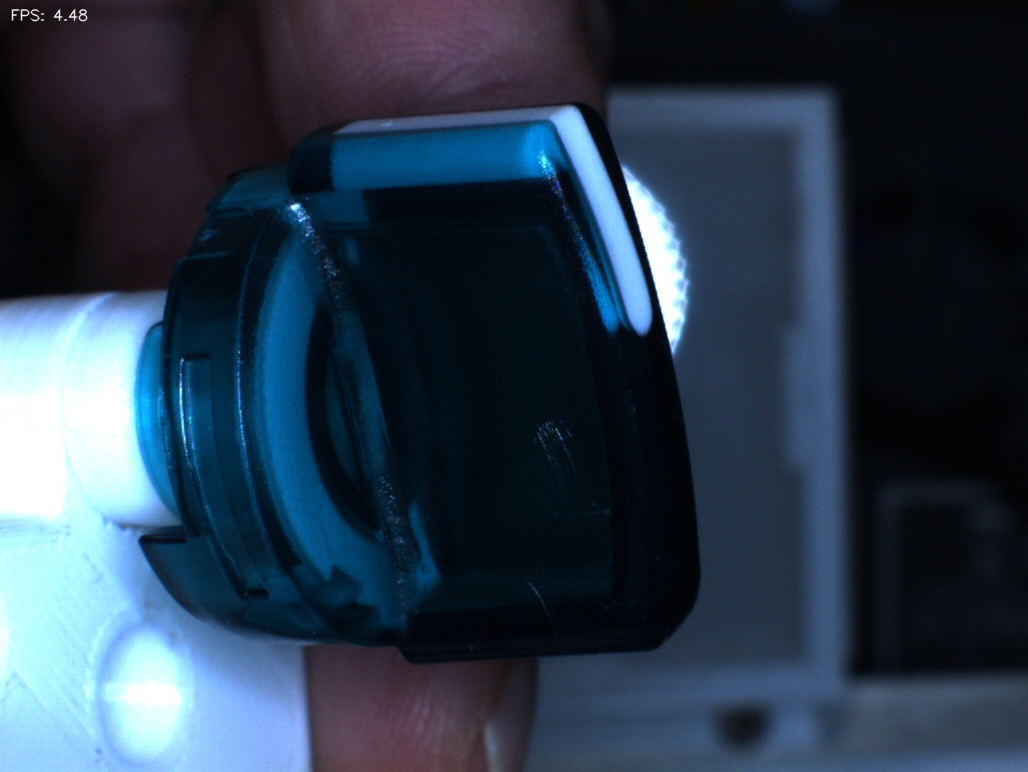Givrage: (510, 406, 579, 640)
